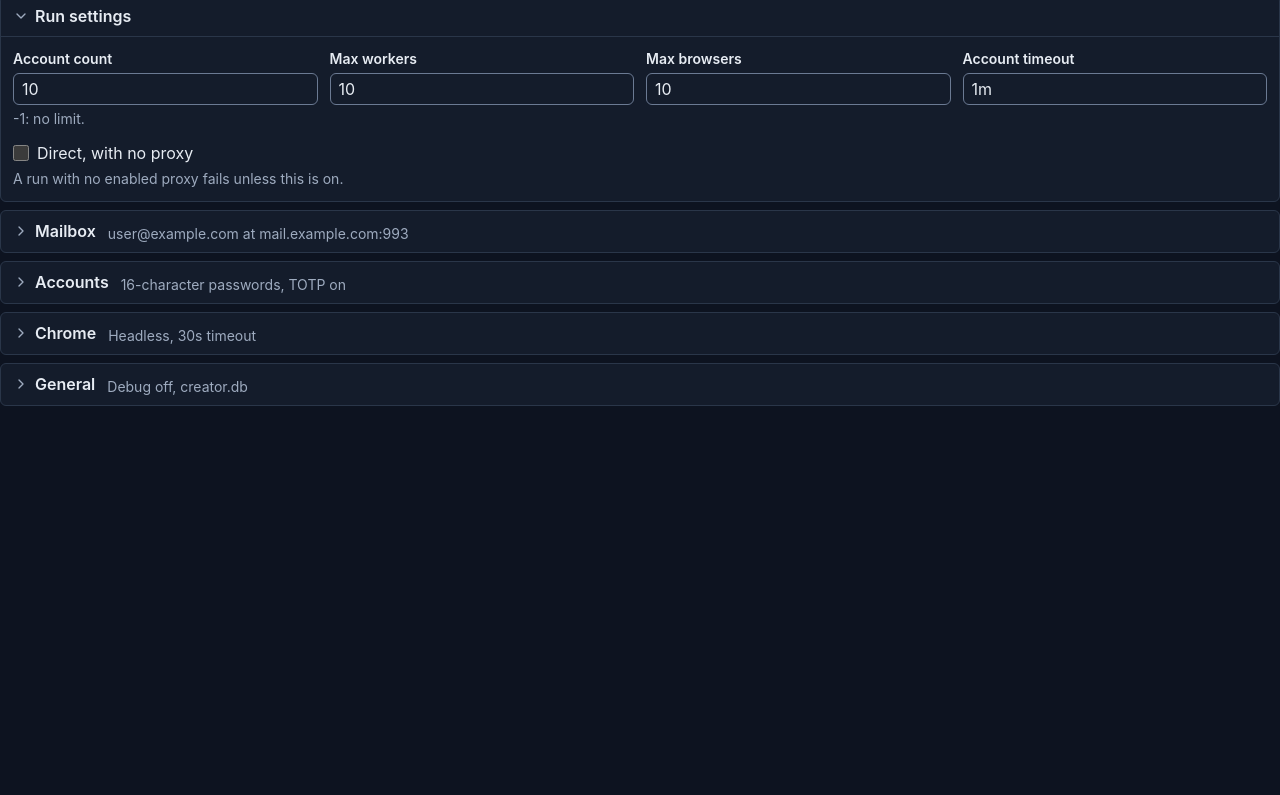
Test: ConfigFields › checks the mailbox with the edited email section
expect the text "Run settings" is shown: met, box [13,4,131,28]
Click the heading "Mailbox user@example.com at mail.example.com:993" at [211, 232], box [13,221,409,242]
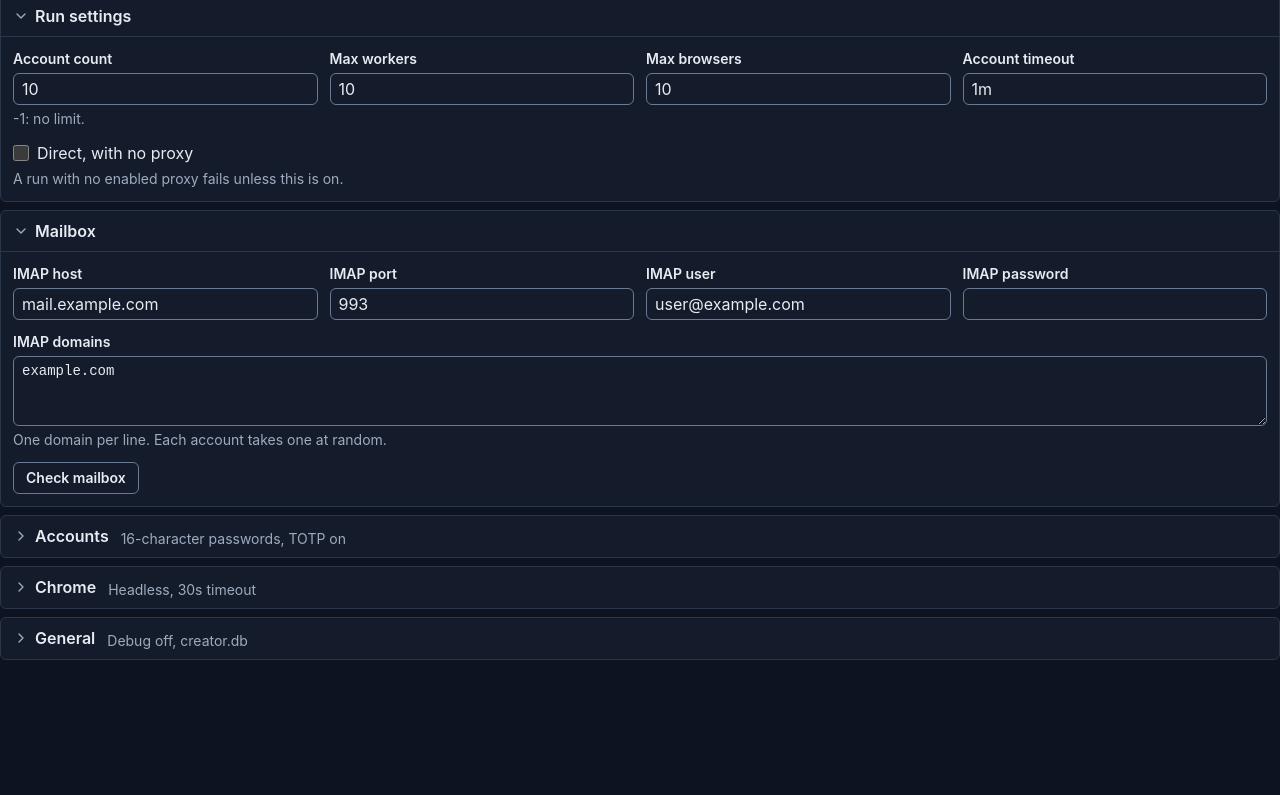
Click the heading "Accounts 16-character passwords, TOTP on" at [180, 536], box [13,526,346,547]
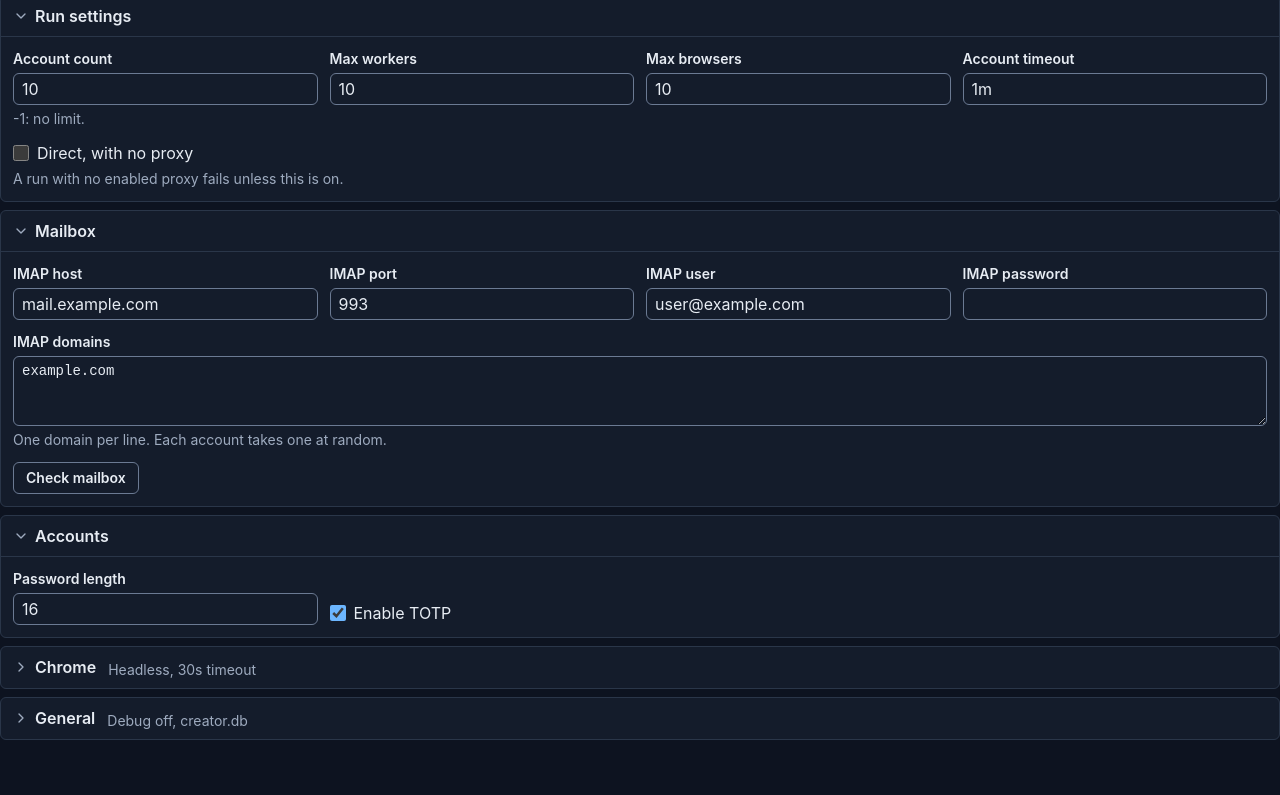
Click the heading "Chrome Headless, 30s timeout" at [135, 668], box [13,657,256,678]
(page scrolled)
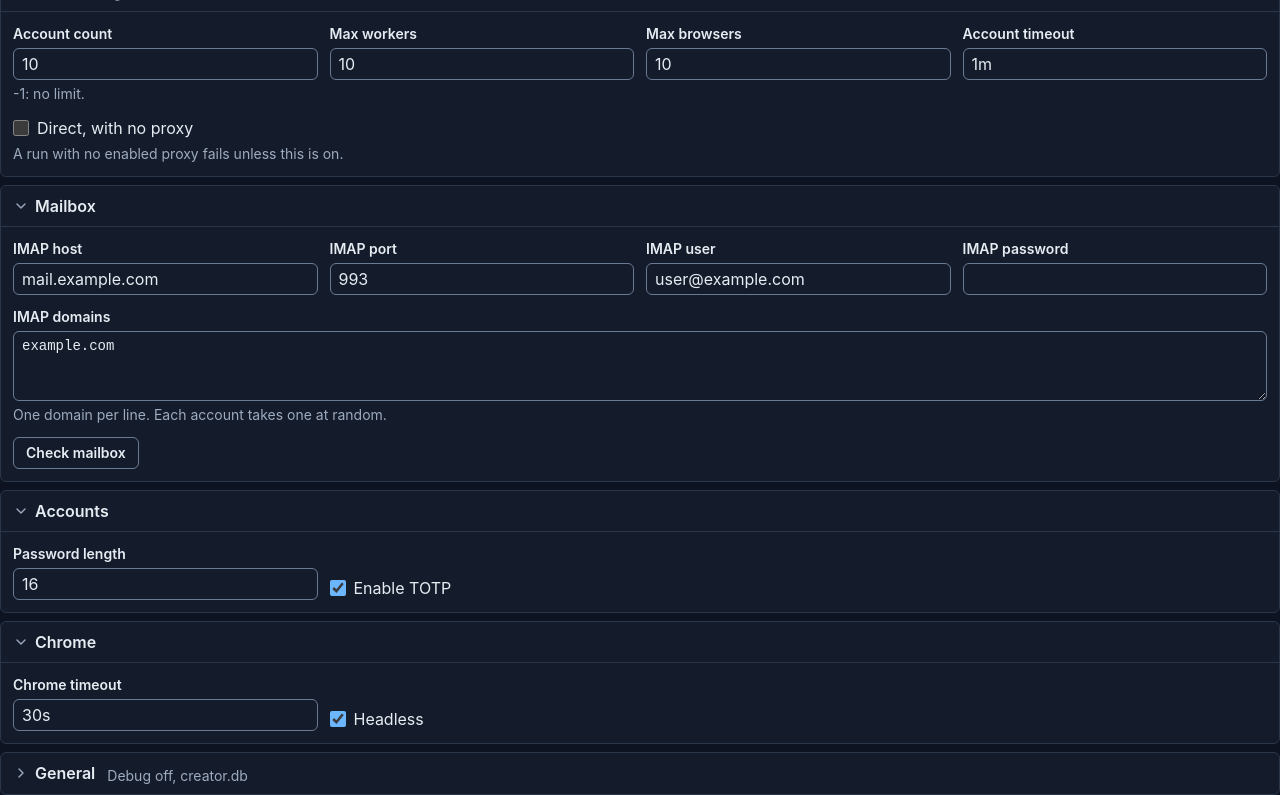
Click the heading "General Debug off, creator.db" at [130, 774], box [13,763,248,784]
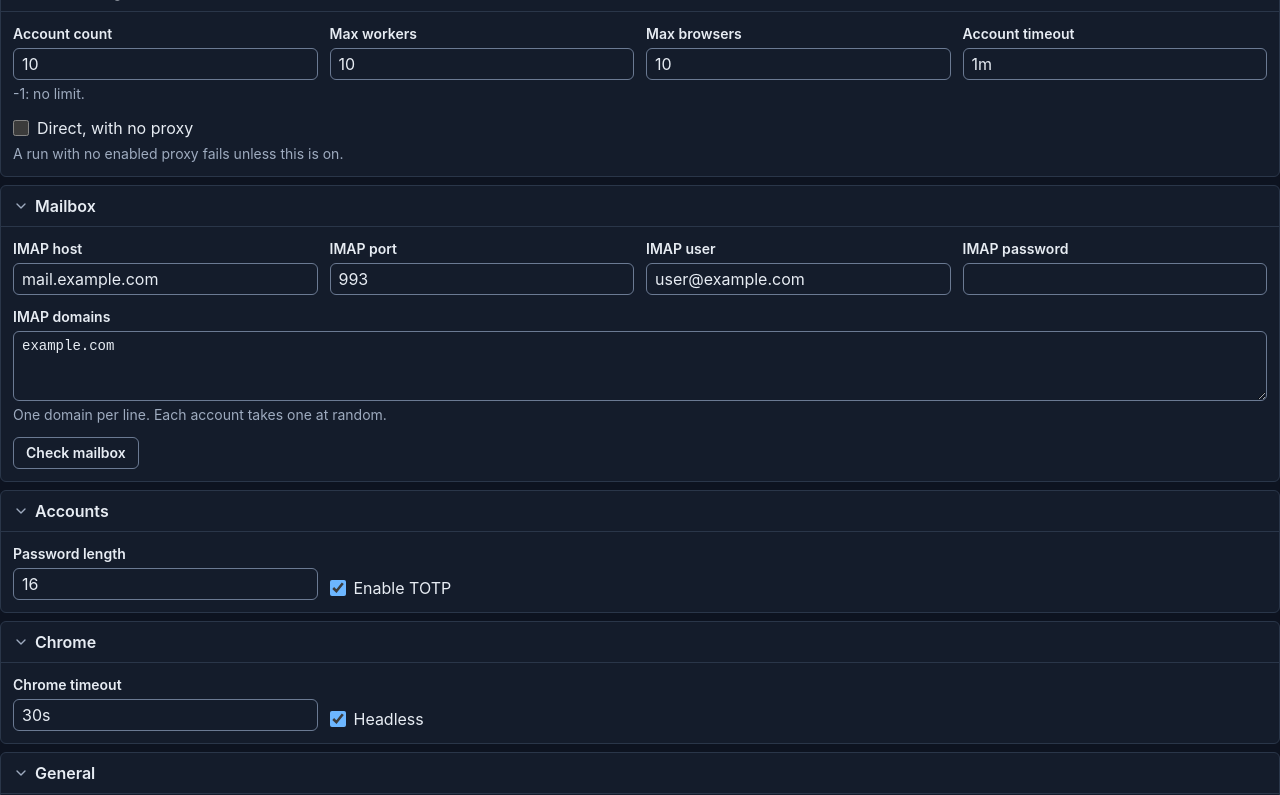
Replace the text in the field labelled "IMAP host" with "imap.example.org" at [165, 279], box [13,263,318,295]
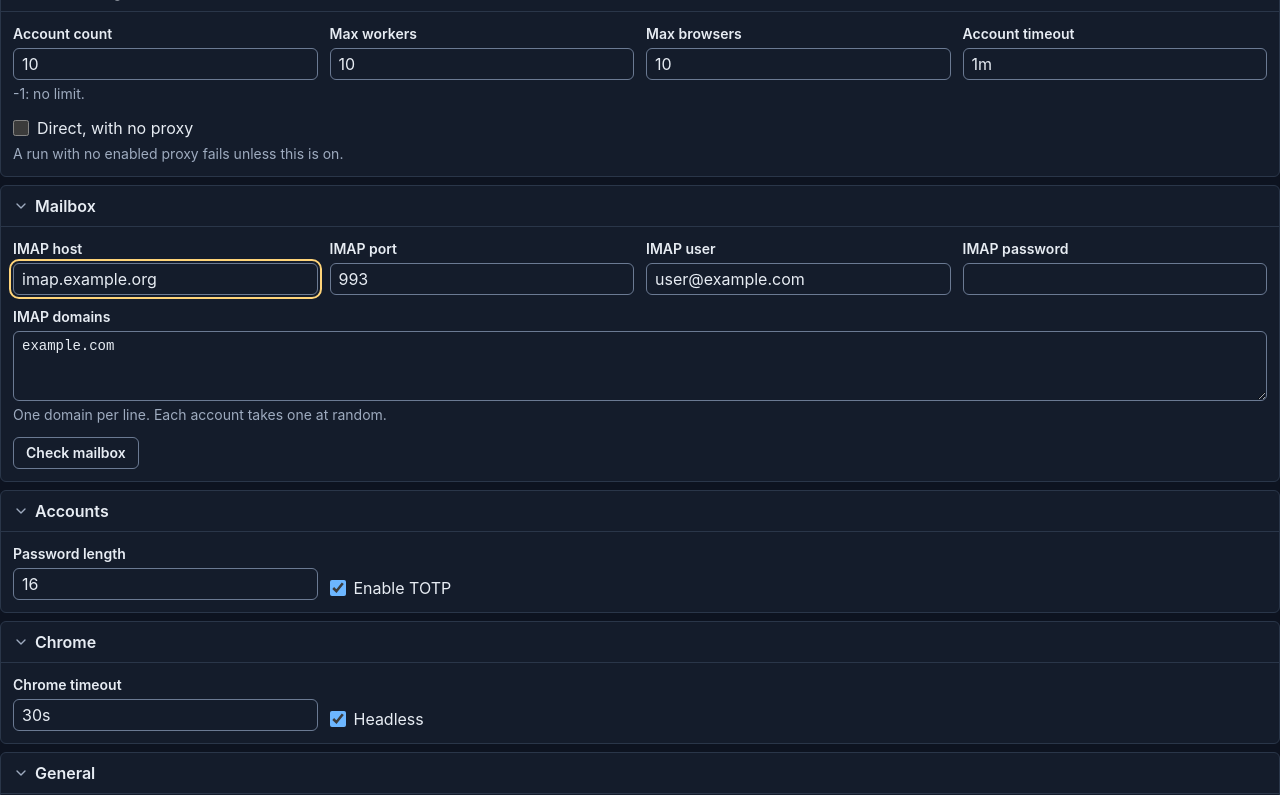
Click the button "Check mailbox" at [76, 453], box [13,437,139,469]
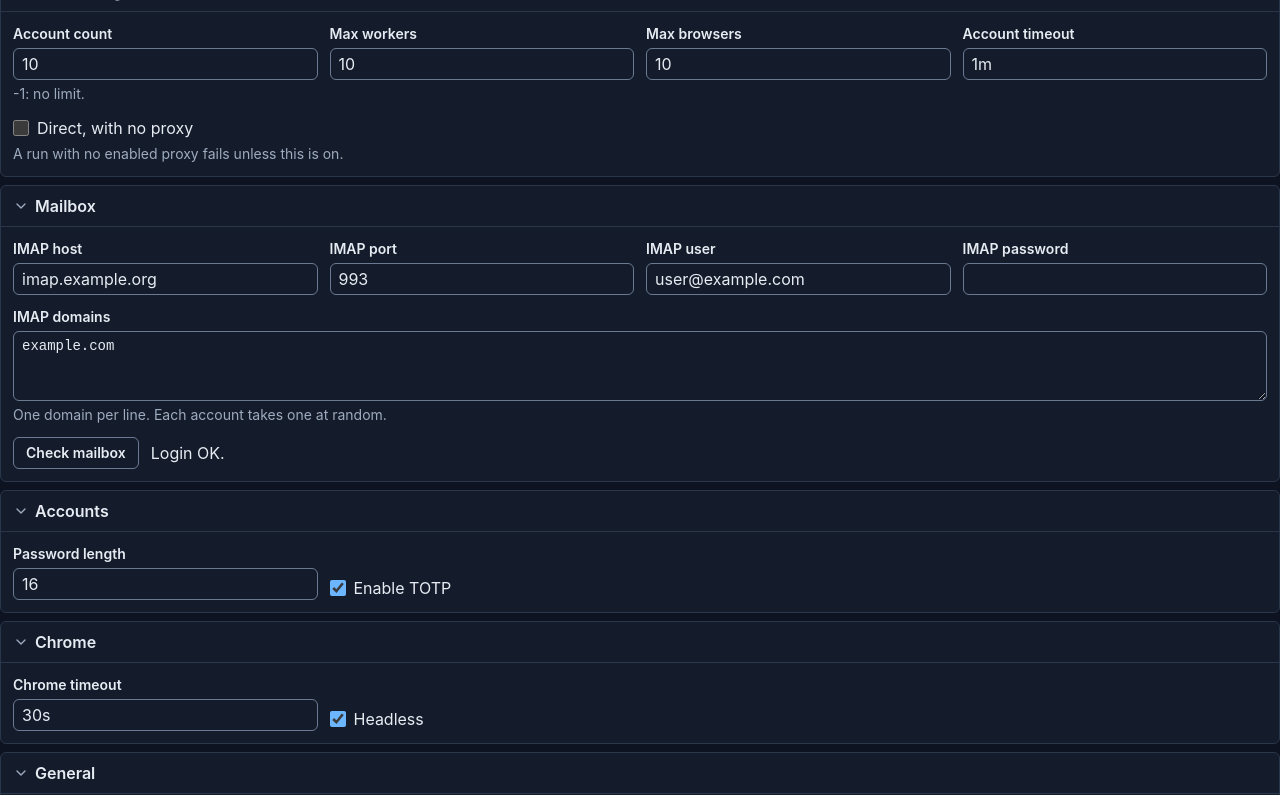
expect the message reads "Login OK.": met, box [151,443,225,463]
